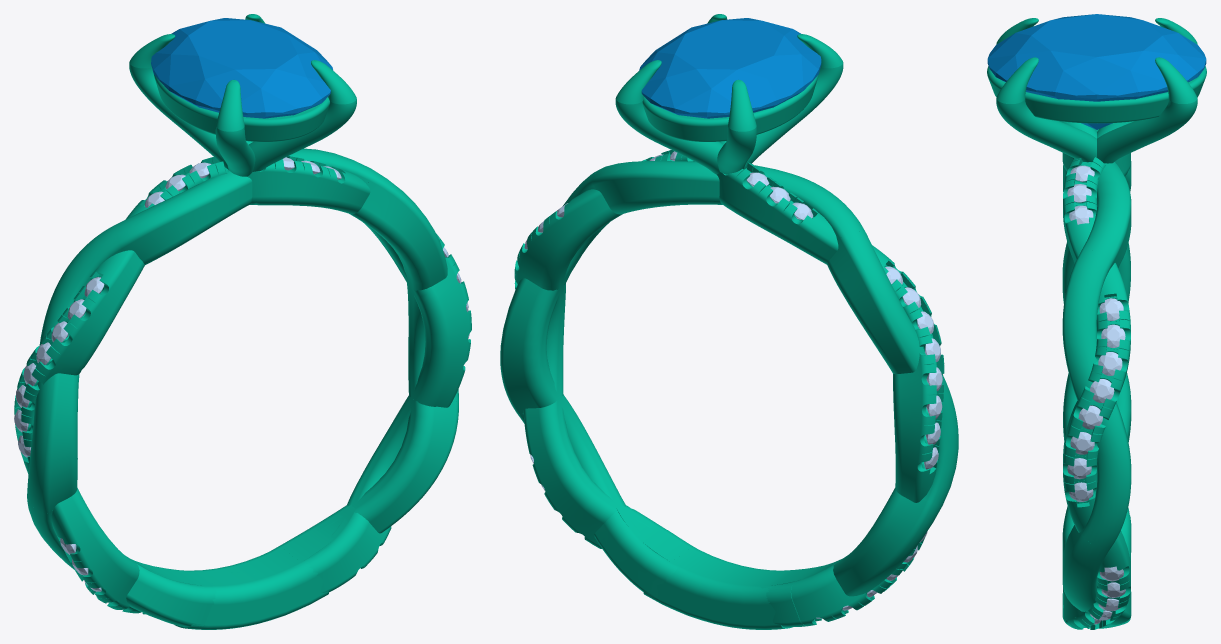
3 renders of one model, left to right at view 1: azimuth 30°, elevation 25°; view 2: azimuth 150°, elevation 25°; view 3: azimuth 270°, elevation 25°, orthographic.
Parts seen in each view (by area): view 1: RING.JTC.SRO10(front).3dm, Diamond_Oval; view 2: RING.JTC.SRO10(front).3dm, Diamond_Oval; view 3: RING.JTC.SRO10(front).3dm, Diamond_Oval, Diamond_Round (×10).
Boxes of the visible parts, x1,y1,x2,y2 form: RING.JTC.SRO10(front).3dm: [14, 14, 471, 629]; Diamond_Oval: [151, 18, 333, 118]; RING.JTC.SRO10(front).3dm: [500, 14, 958, 629]; Diamond_Oval: [639, 18, 821, 118]; RING.JTC.SRO10(front).3dm: [987, 18, 1206, 629]; Diamond_Oval: [987, 14, 1206, 129]; Diamond_Round (×10): [1067, 184, 1125, 501].
Size of what is drawn, in the model's own units: 2.4 by 3.02 by 1.05.
